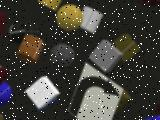Right: (68, 62, 124, 120)
